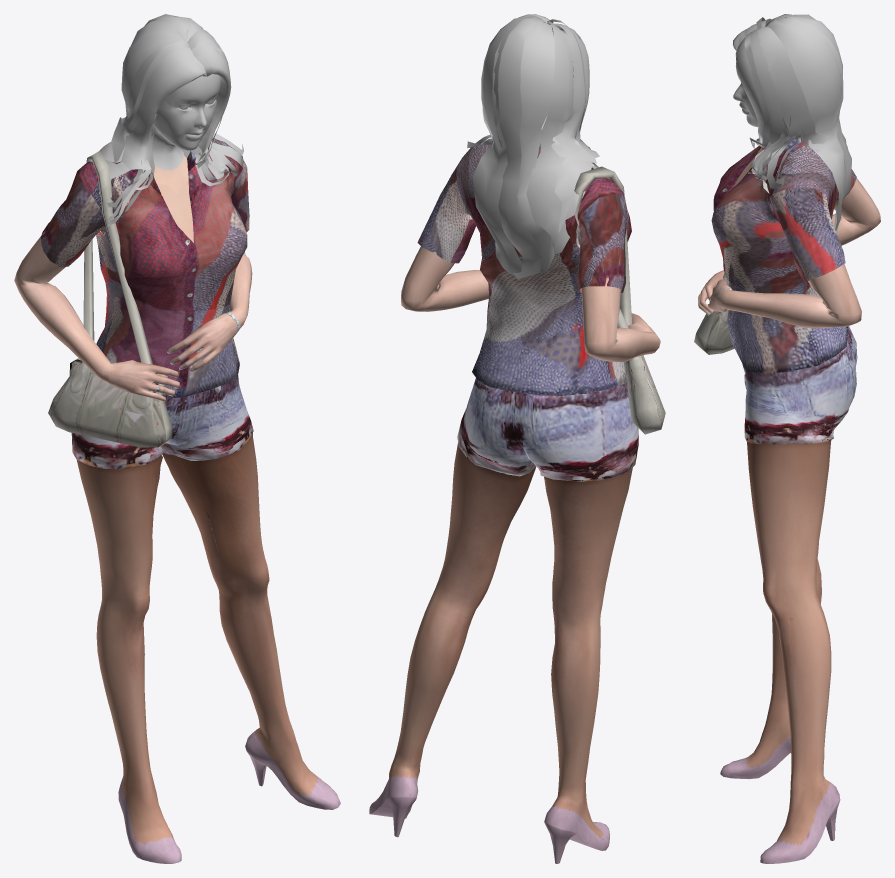
3 renders of one model, left to right at view 1: azimuth 30°, elevation 25°; view 2: azimuth 150°, elevation 25°; view 3: azimuth 270°, elevation 25°, orthographic. The views are drawn at different scales.
Visible parts, largest first — view 1: UA_f2-2; view 2: UA_f2-2; view 3: UA_f2-2.
Part boxes in pixels (x1,y1,x2,y2): UA_f2-2: (14, 14, 340, 863); UA_f2-2: (369, 14, 665, 863); UA_f2-2: (694, 14, 880, 863).
Bounding box in the file's own units: 63.89 × 177 × 38.4.
